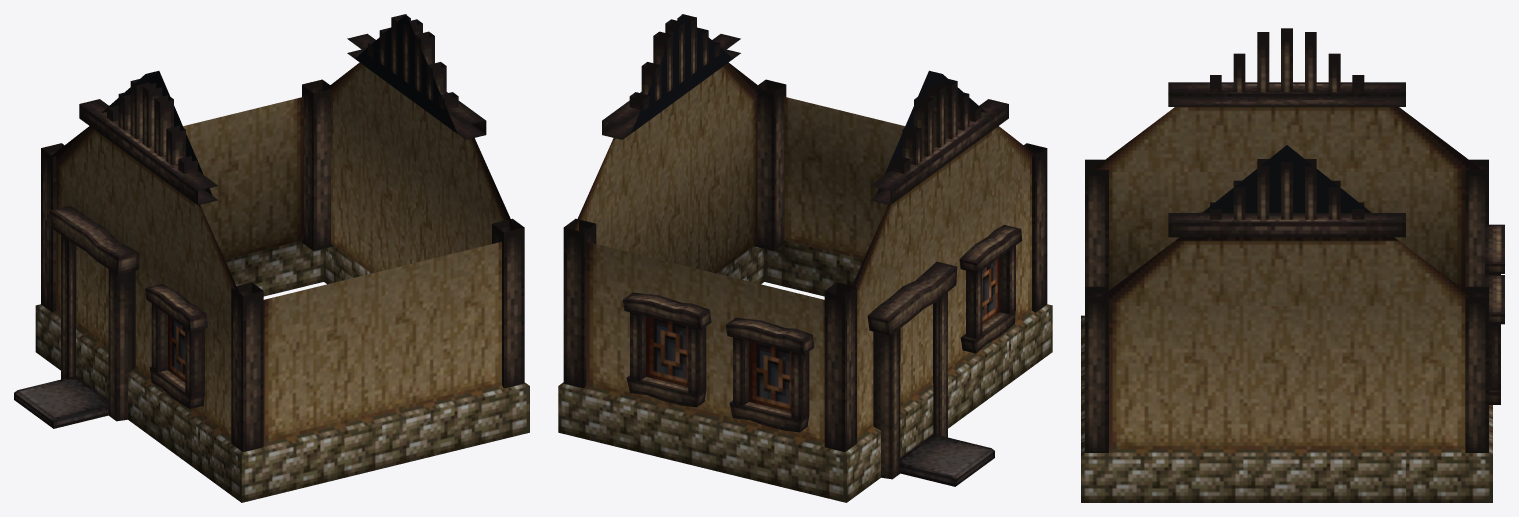
File: EnvBdgMD_Desert_A_Outdoor_House_A.FBX
The picture shows the model from 3 angles, left to right: view 1: azimuth 30°, elevation 25°; view 2: azimuth 150°, elevation 25°; view 3: azimuth 270°, elevation 25°; orthographic projection.
Visible parts, largest first — view 1: EnvBdgMD_Desert_A_Outdoor_House_A; view 2: EnvBdgMD_Desert_A_Outdoor_House_A; view 3: EnvBdgMD_Desert_A_Outdoor_House_A.
Boxes of the visible parts, x1,y1,x2,y2 form: EnvBdgMD_Desert_A_Outdoor_House_A: [14, 14, 529, 502]; EnvBdgMD_Desert_A_Outdoor_House_A: [558, 14, 1052, 502]; EnvBdgMD_Desert_A_Outdoor_House_A: [1081, 28, 1504, 502].
Size of the model in its own units: 515 by 490 by 535.
